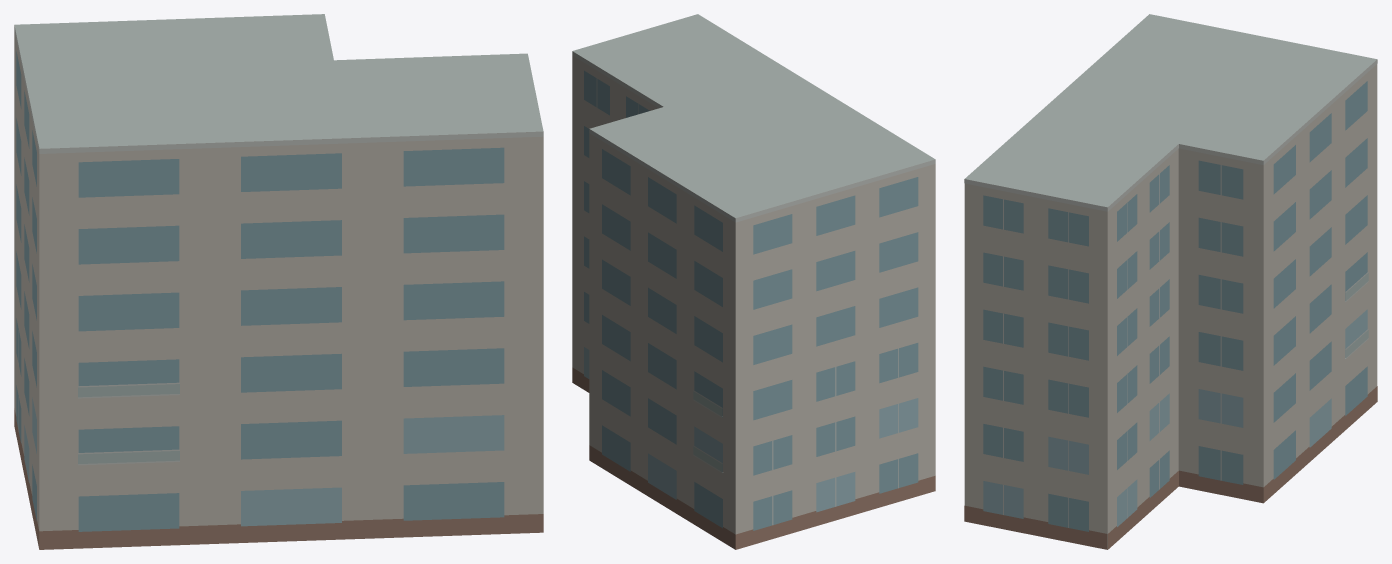
Rendered from survey-upis-32552258.glb.
3 views of the same model, side by side, from view 1: azimuth 30°, elevation 25°; view 2: azimuth 150°, elevation 25°; view 3: azimuth 270°, elevation 25° (orthographic). The views are drawn at different scales.
Parts seen in each view (by area): view 1: survey-upis-32552258.tmp; view 2: survey-upis-32552258.tmp; view 3: survey-upis-32552258.tmp.
Part boxes in pixels (x1,y1,x2,y2): survey-upis-32552258.tmp: (14,14,543,549); survey-upis-32552258.tmp: (572,14,935,549); survey-upis-32552258.tmp: (964,14,1377,549).
Bounding box in the file's own units: 22.65 × 18.7 × 20.44.
